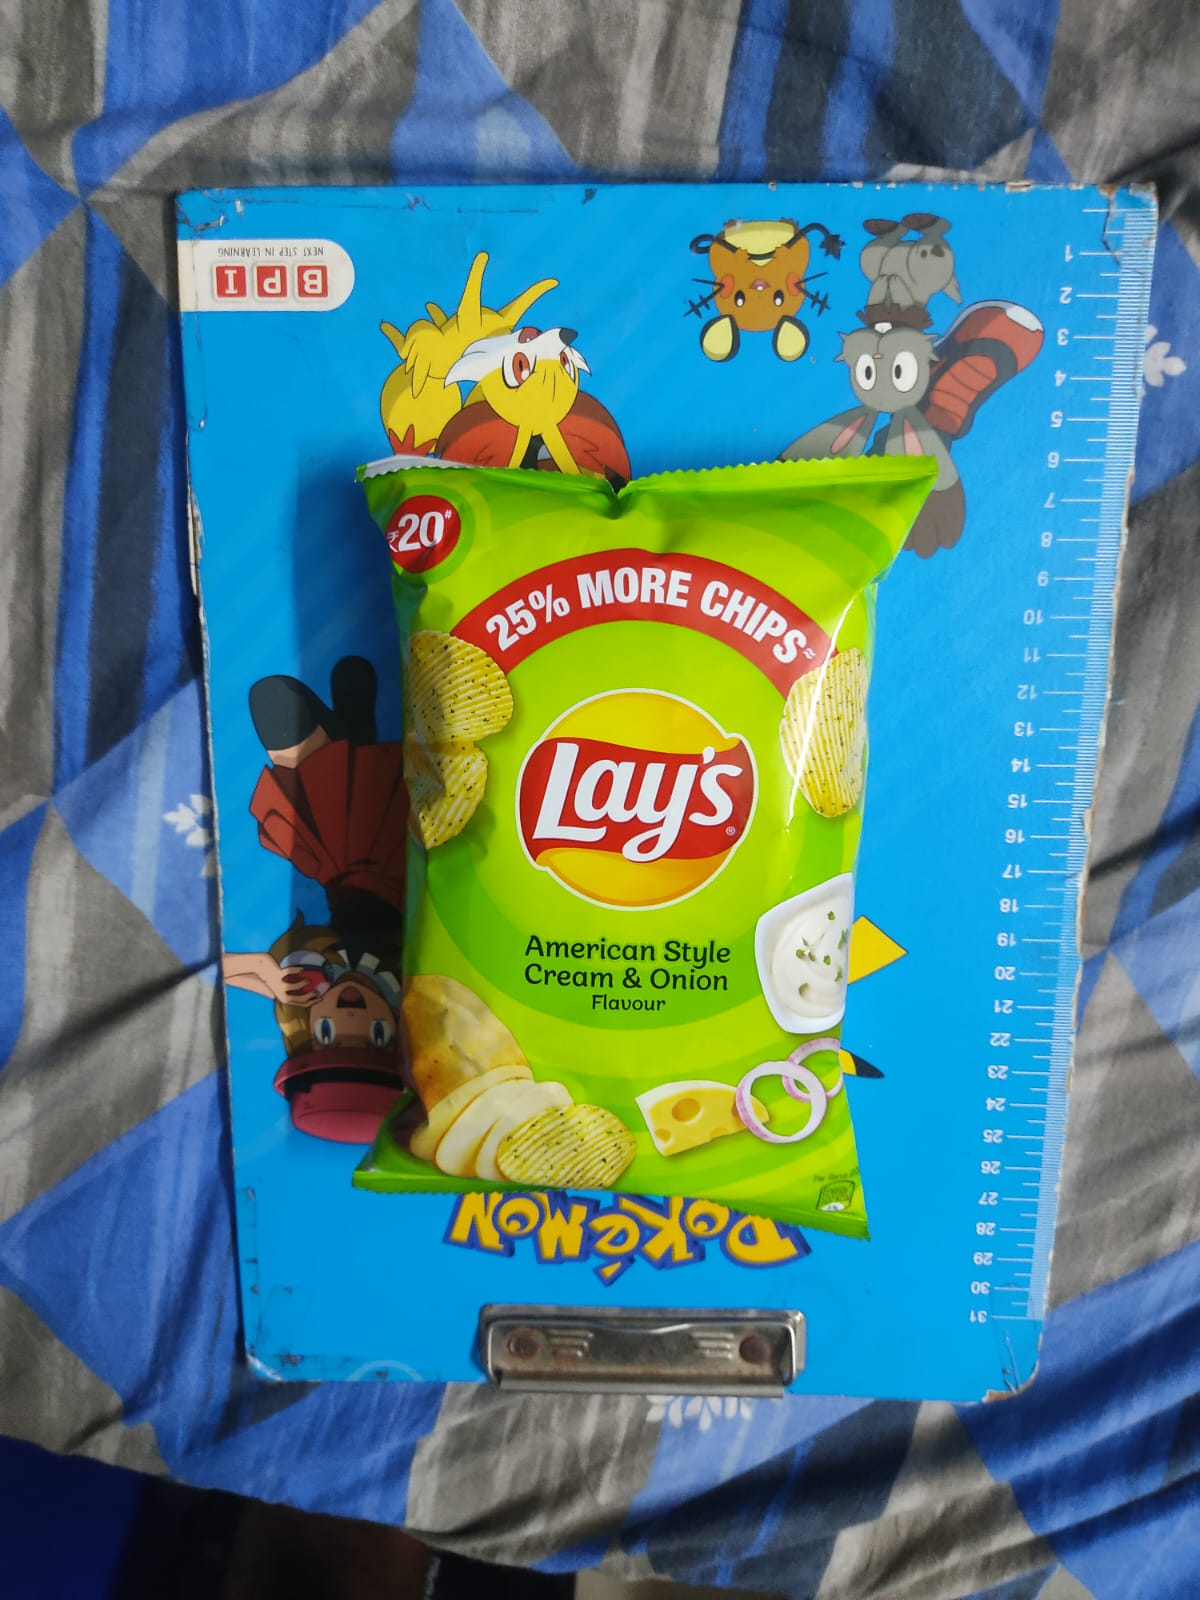020_GreenLays: (372, 477, 880, 1203)
